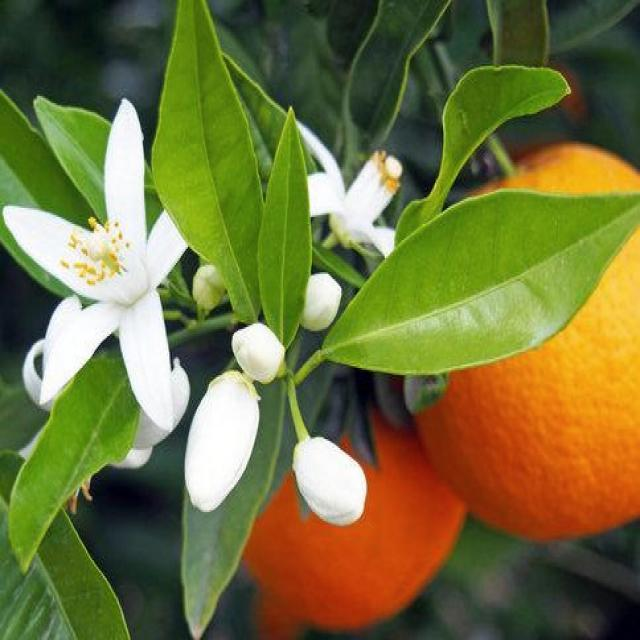Bunga: (0, 96, 196, 428), (283, 118, 403, 260), (174, 374, 262, 511), (292, 432, 368, 524), (230, 322, 288, 384), (298, 274, 346, 334)
Jeruk Sudah Matang: (415, 145, 640, 536), (229, 404, 467, 620)
